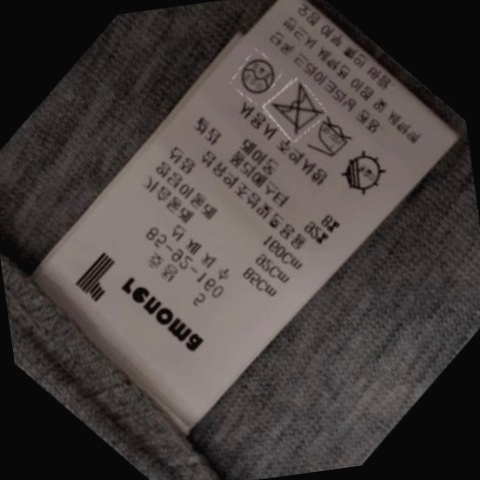DN_wash: (266, 84, 323, 134)
dry_clean_petrol_only: (234, 53, 279, 97)
iron_low: (305, 117, 356, 163)
line_dry_in_shade: (333, 151, 388, 197)
